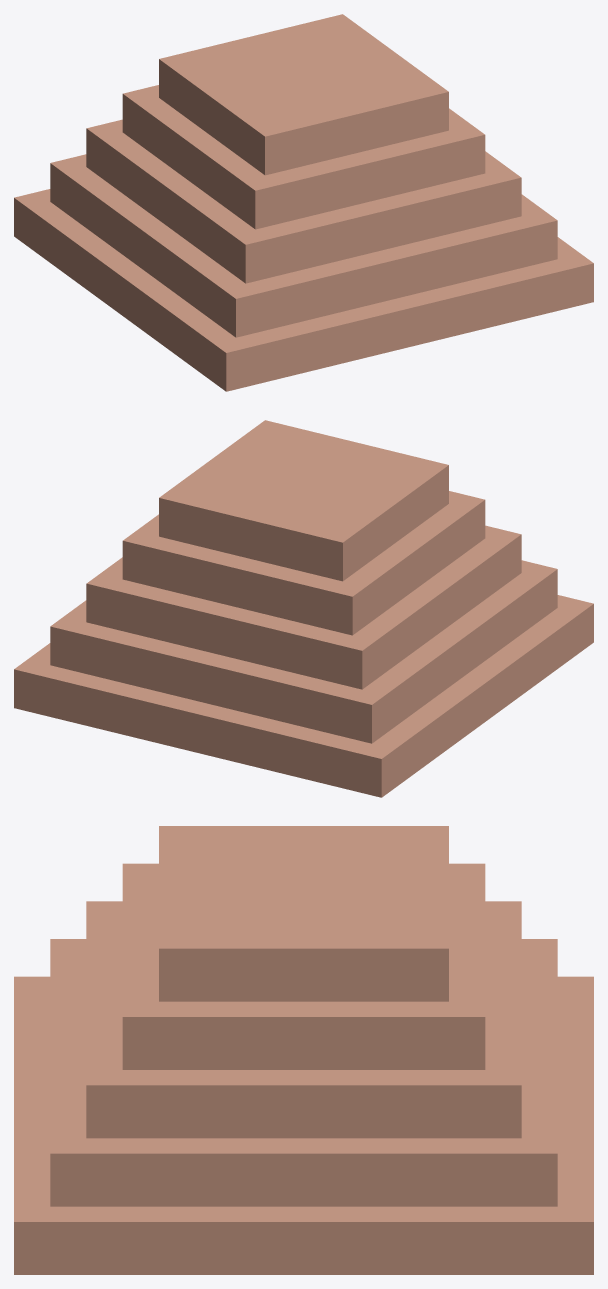
The model's file is place-choga-zanbil.glb.
3 renders of one model, top to bottom at view 1: azimuth 30°, elevation 25°; view 2: azimuth 150°, elevation 25°; view 3: azimuth 270°, elevation 25°, orthographic. The views are drawn at different scales.
Parts seen in each view (by area): view 1: place-choga-zanbil; view 2: place-choga-zanbil; view 3: place-choga-zanbil.
Boxes of the visible parts, box(x1,y1,x2,y2) form: place-choga-zanbil: box(14, 14, 593, 391); place-choga-zanbil: box(14, 420, 593, 797); place-choga-zanbil: box(14, 826, 593, 1274).
Size of the model in its own units: 105 by 53 by 105.
